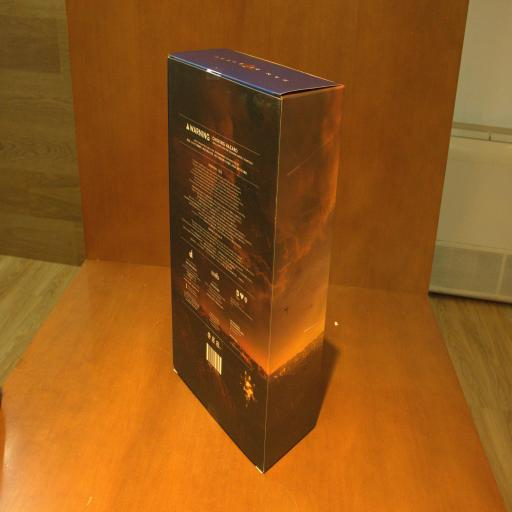superman: (168, 46, 344, 472)
